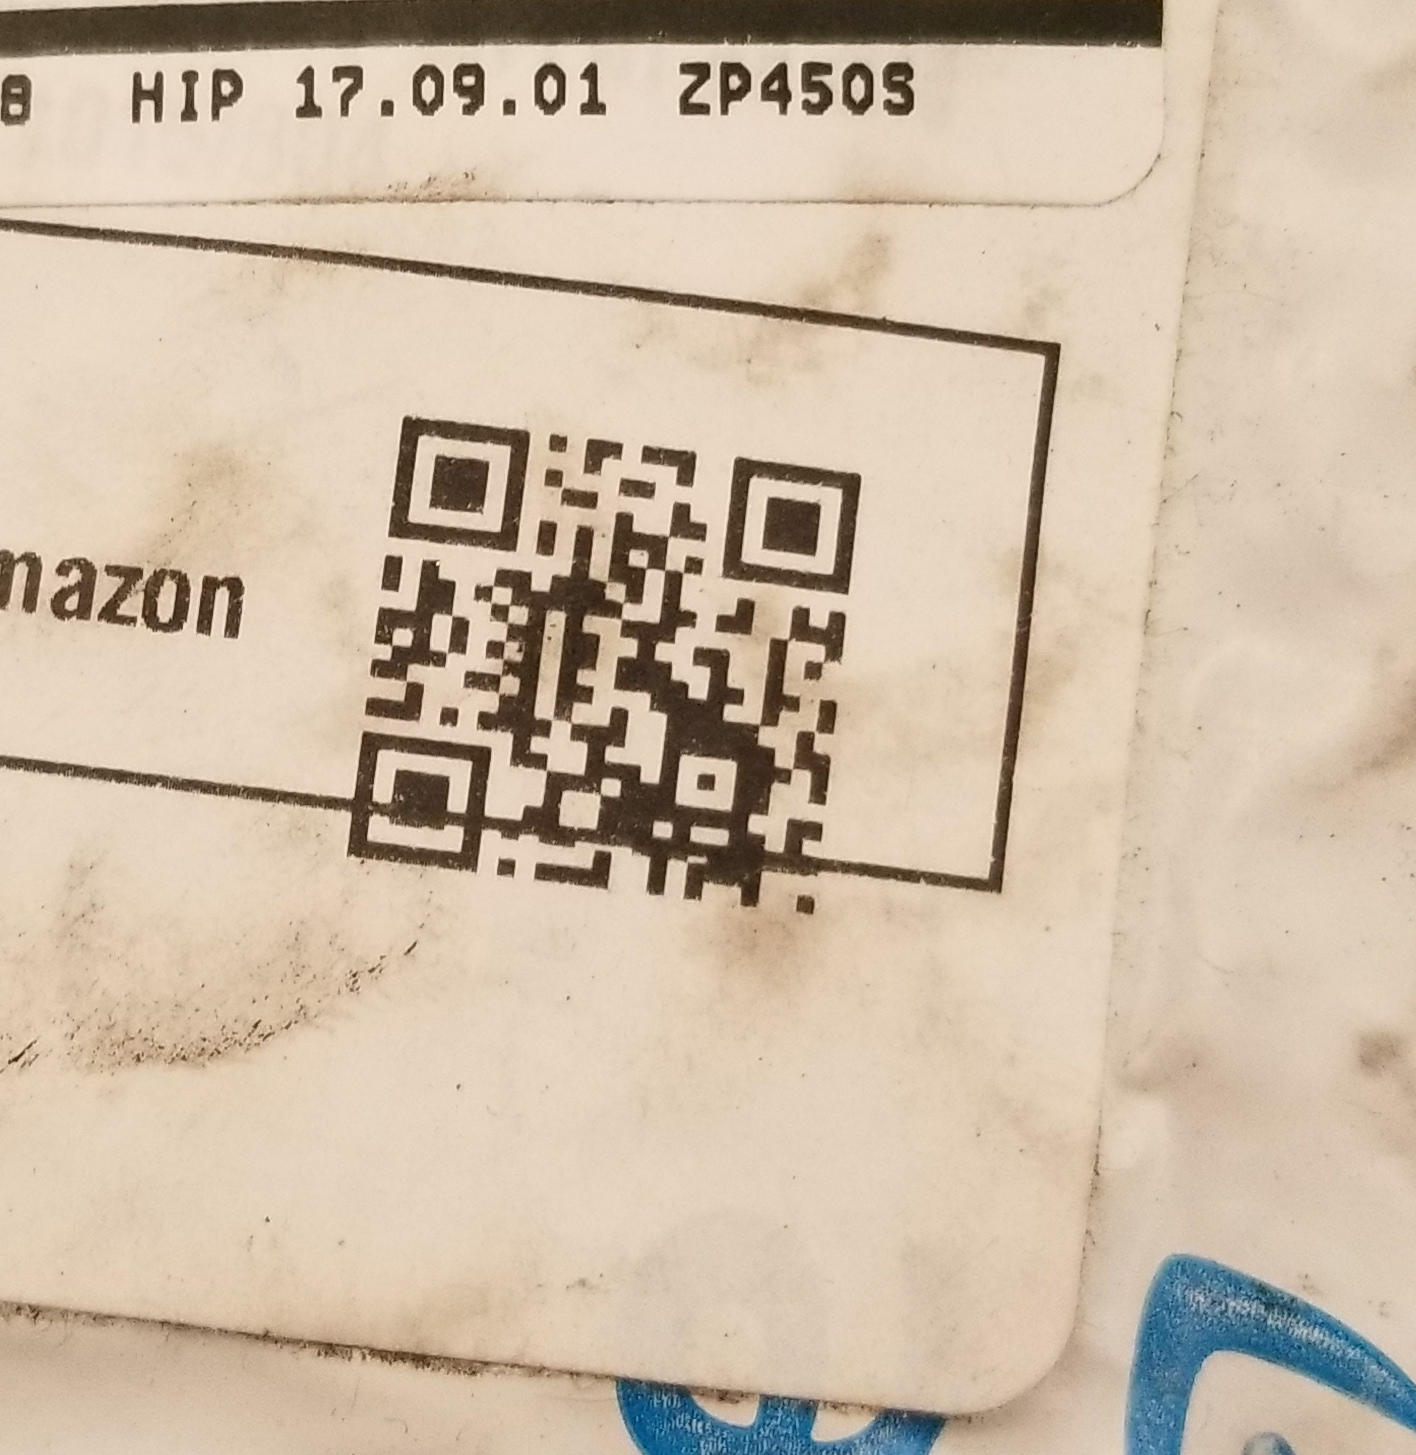QR_CODE: (308, 351, 879, 944)
